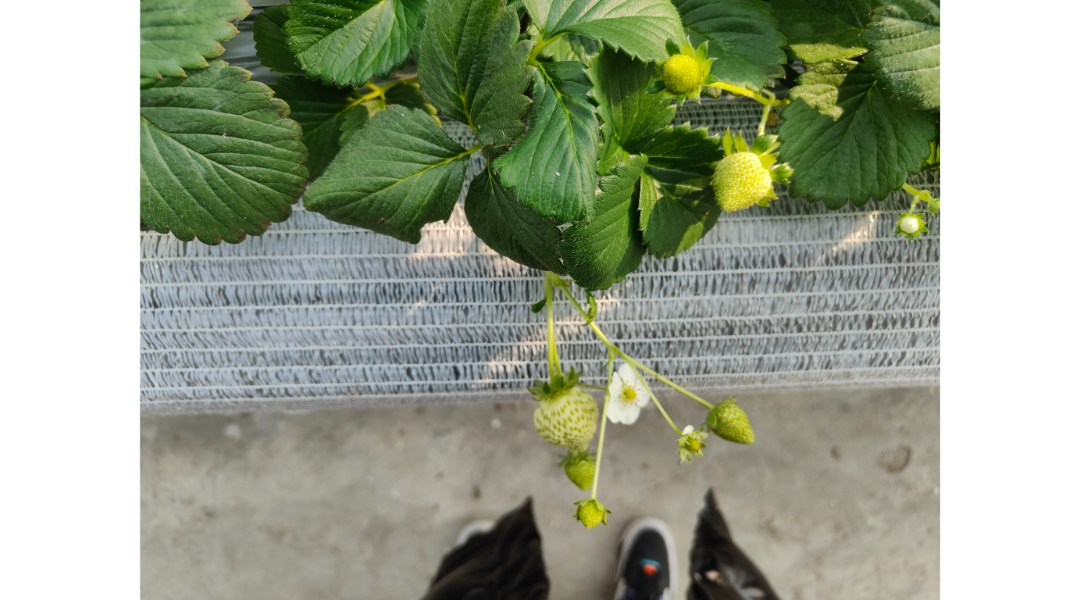berry: (705, 128, 785, 221), (524, 373, 604, 456), (645, 41, 730, 109), (703, 393, 770, 449), (545, 443, 600, 499), (663, 415, 711, 465), (564, 491, 608, 539), (887, 202, 931, 243)
flower: (596, 358, 654, 426)
strain: (517, 294, 568, 383), (643, 358, 716, 409), (554, 283, 609, 341)
